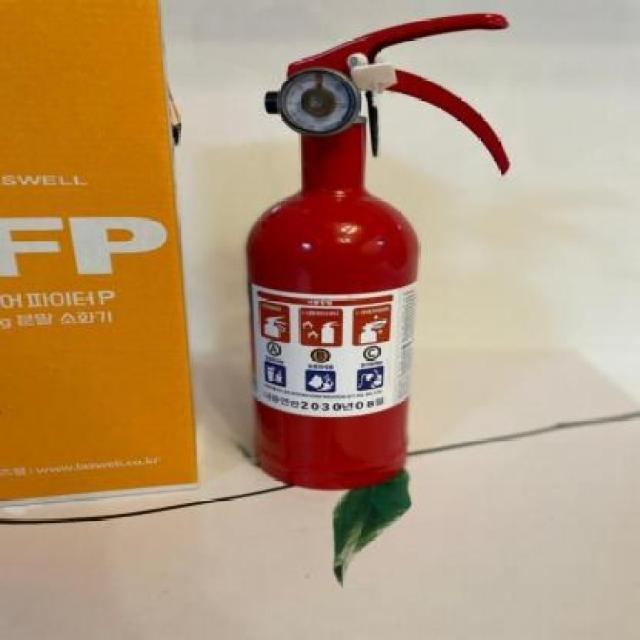fire extinguisher: (245, 12, 511, 490)
